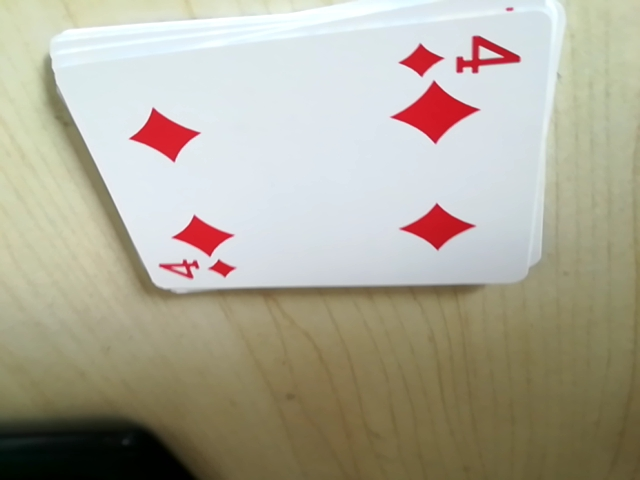fk 4: (395, 21, 527, 82), (155, 251, 243, 290)
